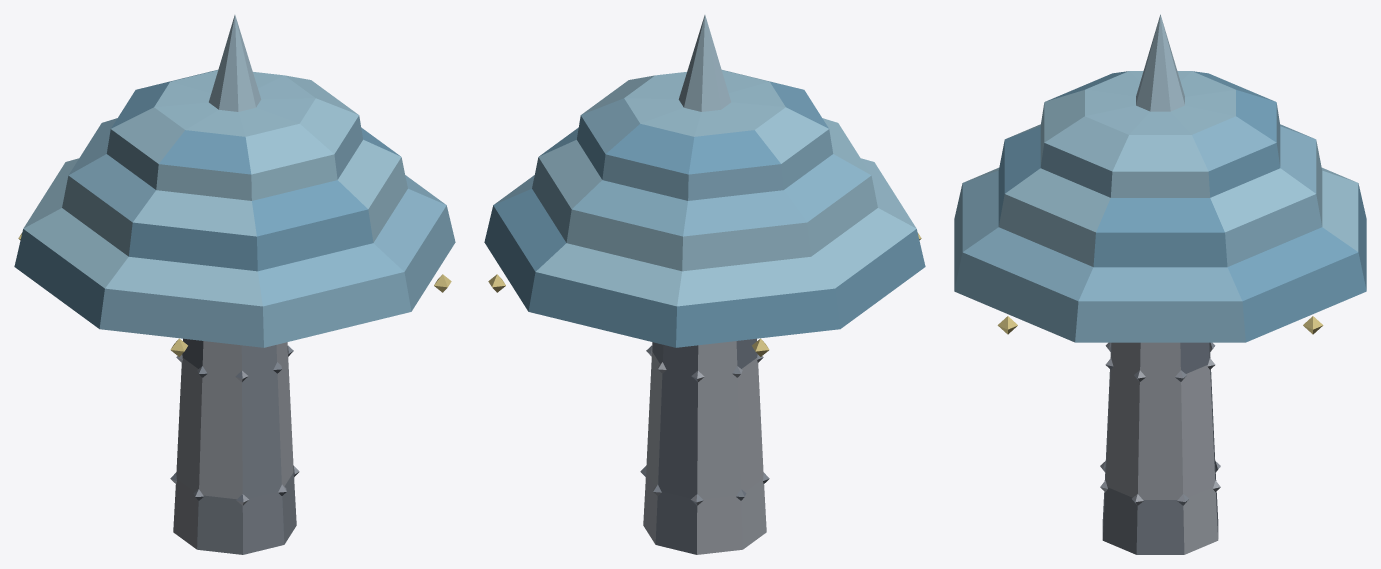
Rendered from Steelbark_Tree.glb.
The picture shows the model from 3 angles, left to right: view 1: azimuth 30°, elevation 25°; view 2: azimuth 150°, elevation 25°; view 3: azimuth 270°, elevation 25°; orthographic projection.
Visible parts, largest first — view 1: Steelbark_Tree; view 2: Steelbark_Tree; view 3: Steelbark_Tree.
Part boxes in pixels (box(x1,y1,x2,y2)): Steelbark_Tree: box(14, 15, 455, 554); Steelbark_Tree: box(484, 15, 925, 554); Steelbark_Tree: box(954, 14, 1366, 554).
Size of the model in its own units: 2.77 by 3.83 by 2.77.
